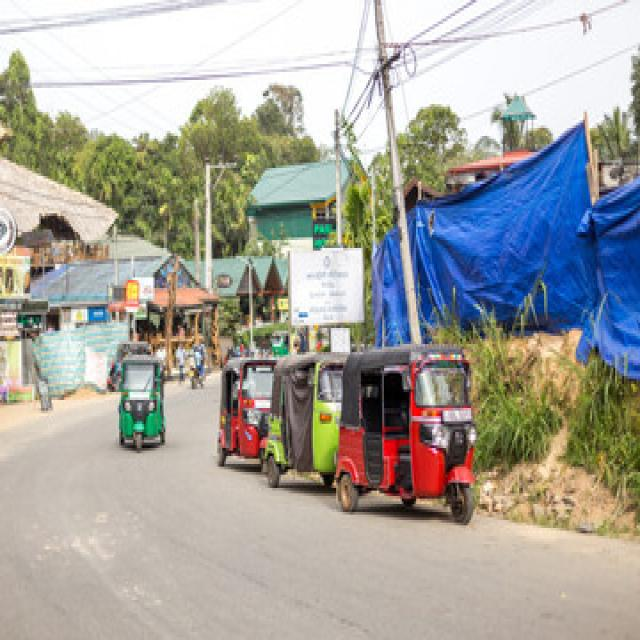three wheeler: (336, 347, 475, 523), (265, 352, 345, 485), (179, 357, 274, 464), (119, 355, 164, 451), (272, 331, 286, 355)
